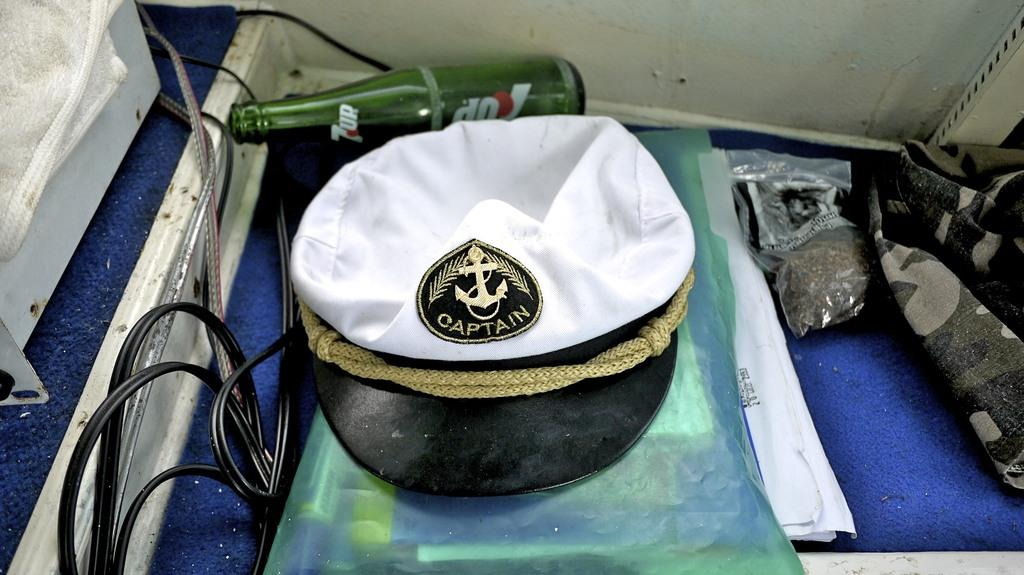Hat: (291, 114, 695, 497)
